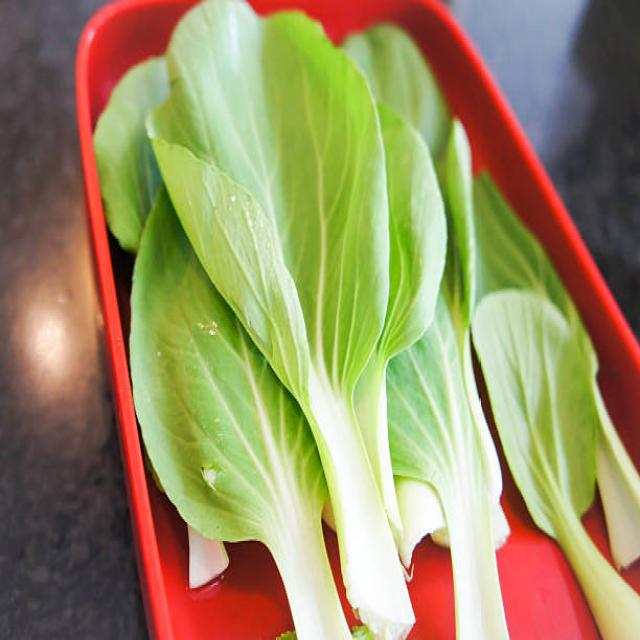Bok Choy: (196, 28, 395, 640)
